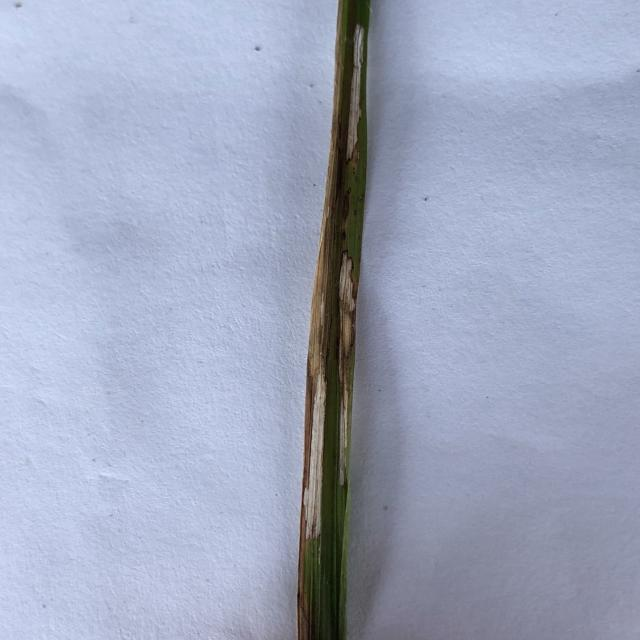leaf blight: (301, 196, 334, 544), (334, 253, 350, 492), (342, 23, 366, 159)
